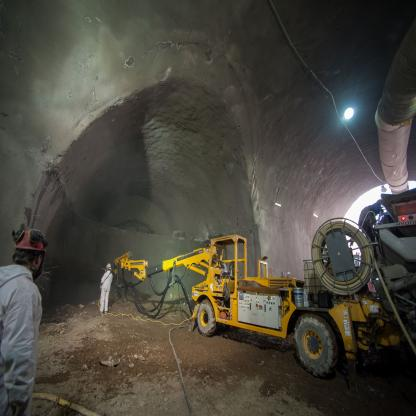person: (1, 222, 55, 414), (96, 257, 115, 311)
